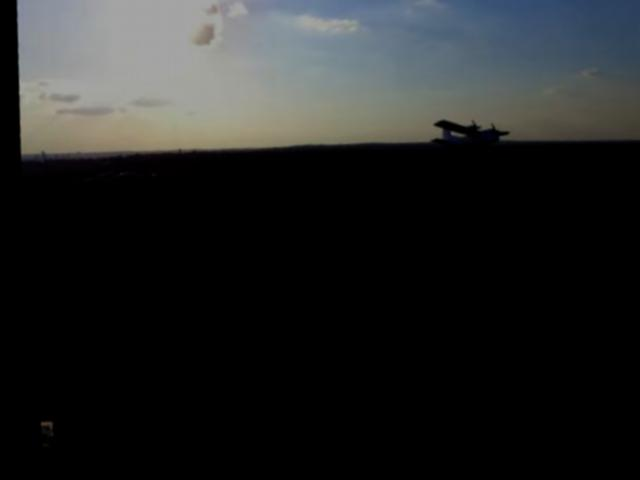uav: (423, 118, 511, 169)
